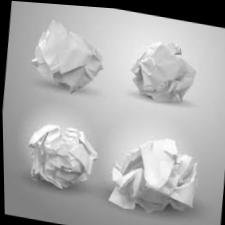paper: (108, 138, 197, 212), (32, 20, 102, 92), (29, 124, 97, 188), (132, 42, 195, 102)
